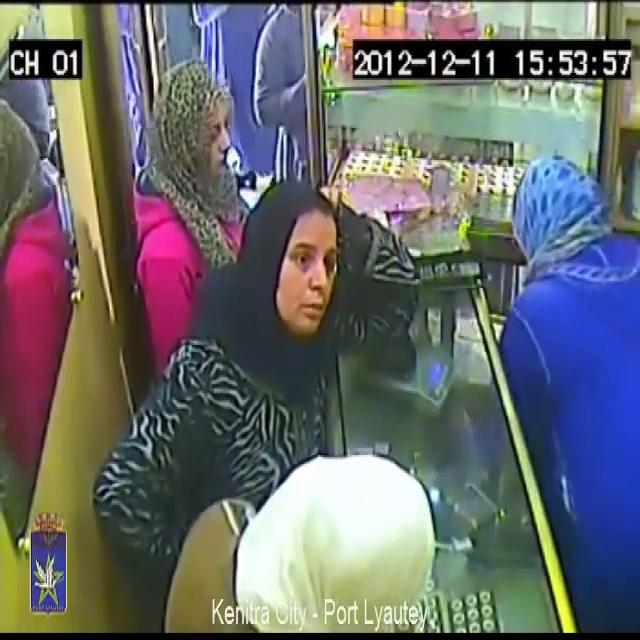normal: (504, 116, 640, 612), (193, 405, 409, 640), (130, 40, 242, 305), (213, 162, 344, 378)
